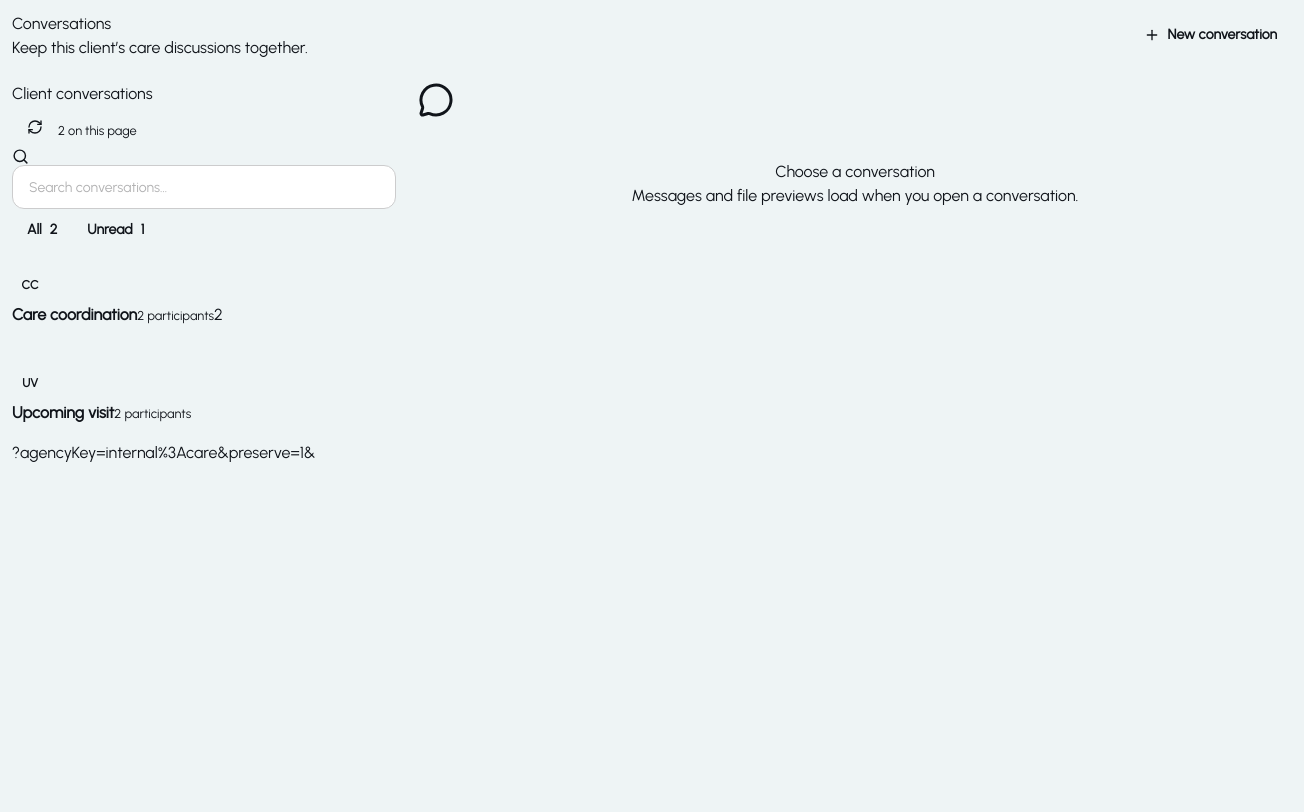
filters the loaded conversation page and preserves organization context when opening a thread
Expected: the button "CC Care coordination2 participants2" is shown, [12, 267, 223, 327]
Click the button "Unread 1" at (116, 230), box [72, 209, 159, 251]
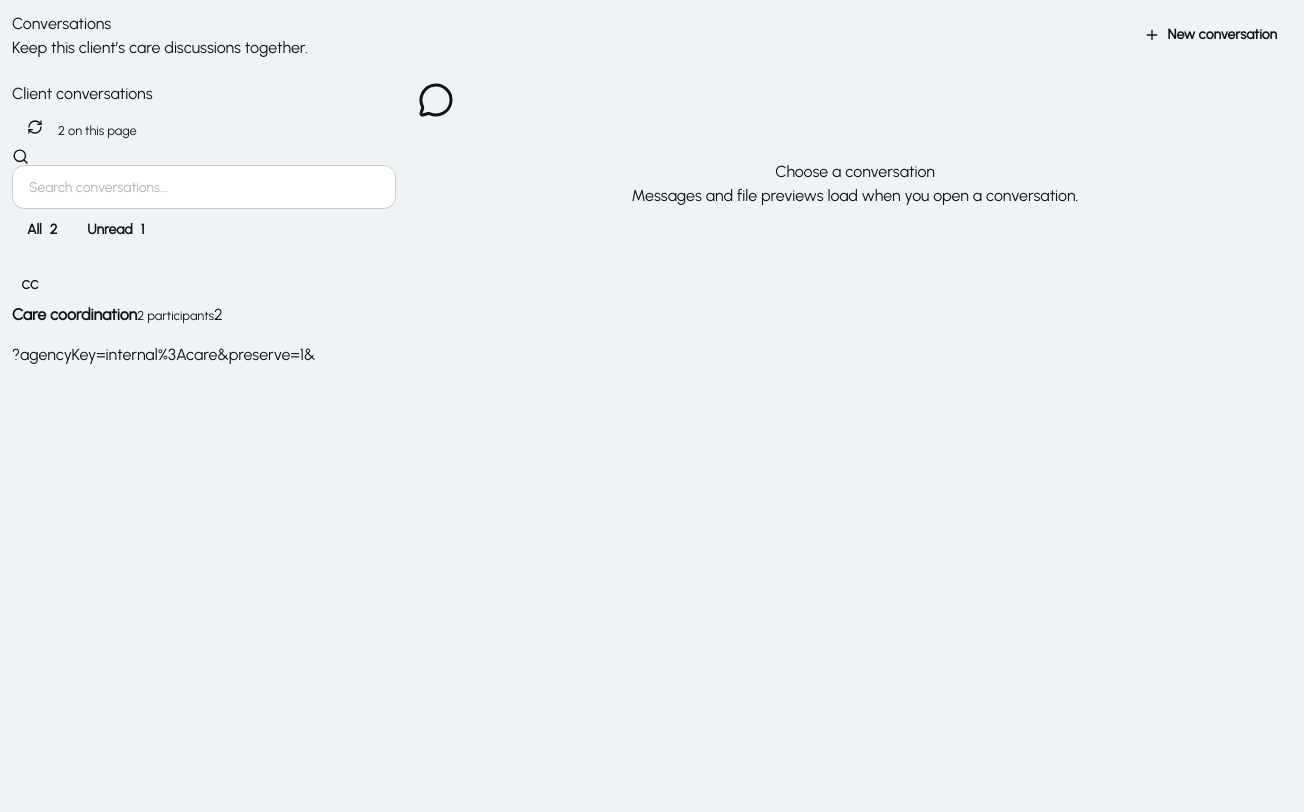
Expected: the button "Upcoming visit" is gone
Type "missing" into the field named "Search conversations on this page" at (204, 187), box [12, 165, 396, 209]
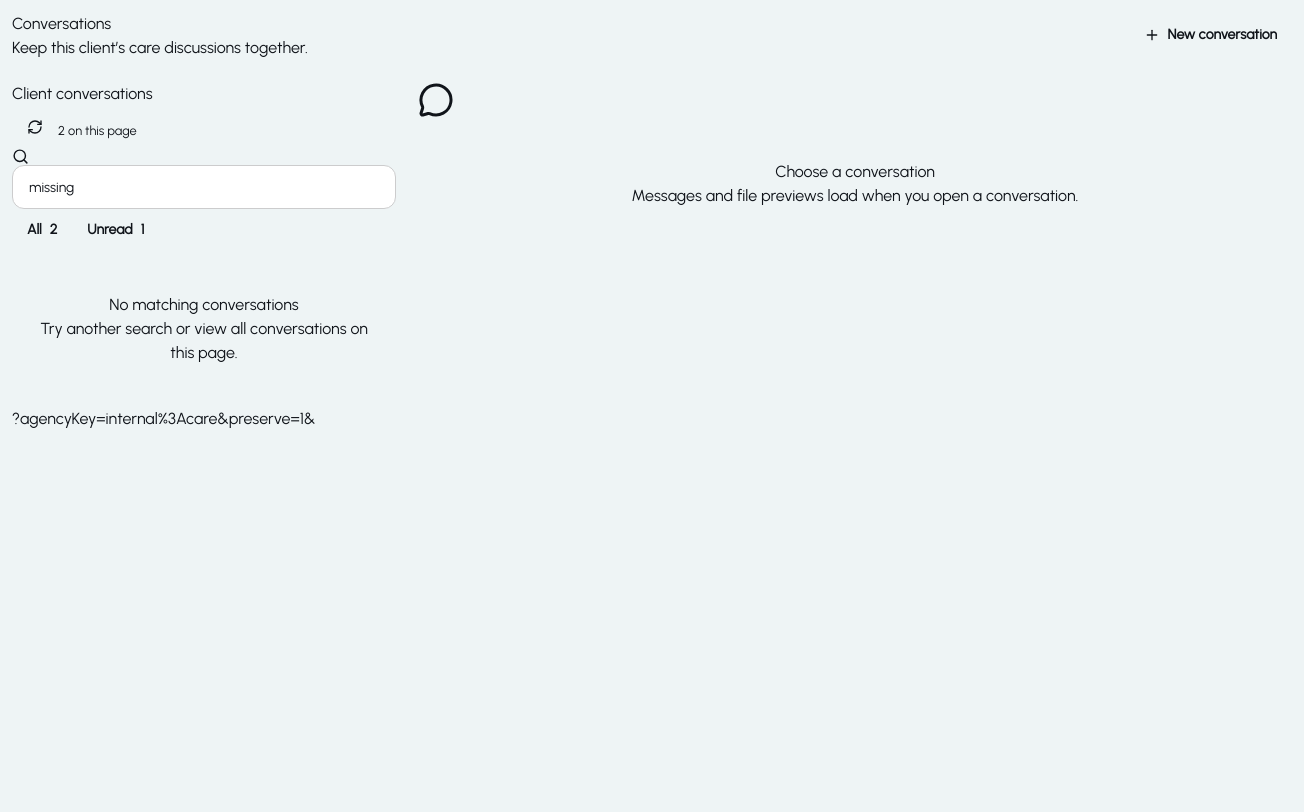
Expected: the heading "No matching conversations" is shown, [109, 295, 299, 314]
Replace the text in the field named "Search conversations on this page" with "care" at (204, 187), box [12, 165, 396, 209]
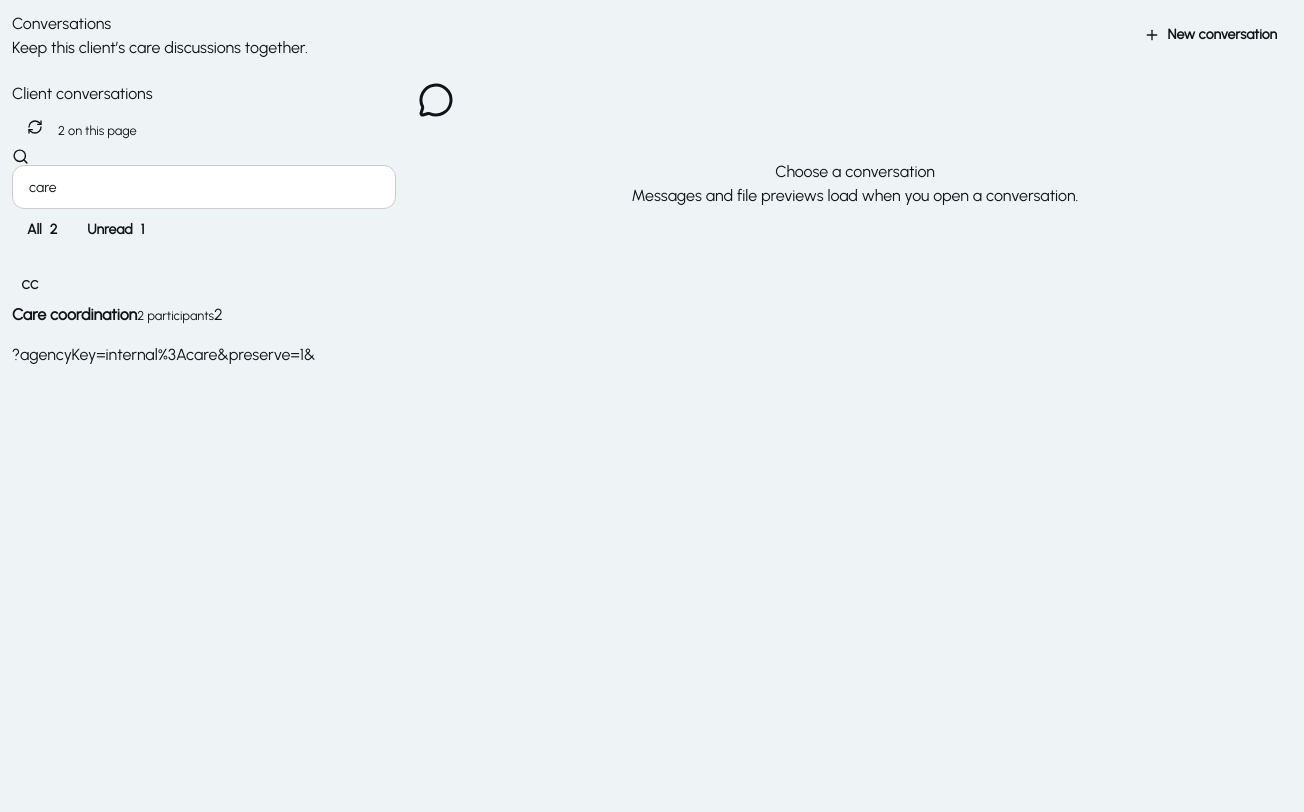
Click the button "CC Care coordination2 participants2" at (117, 297), box [12, 267, 223, 327]
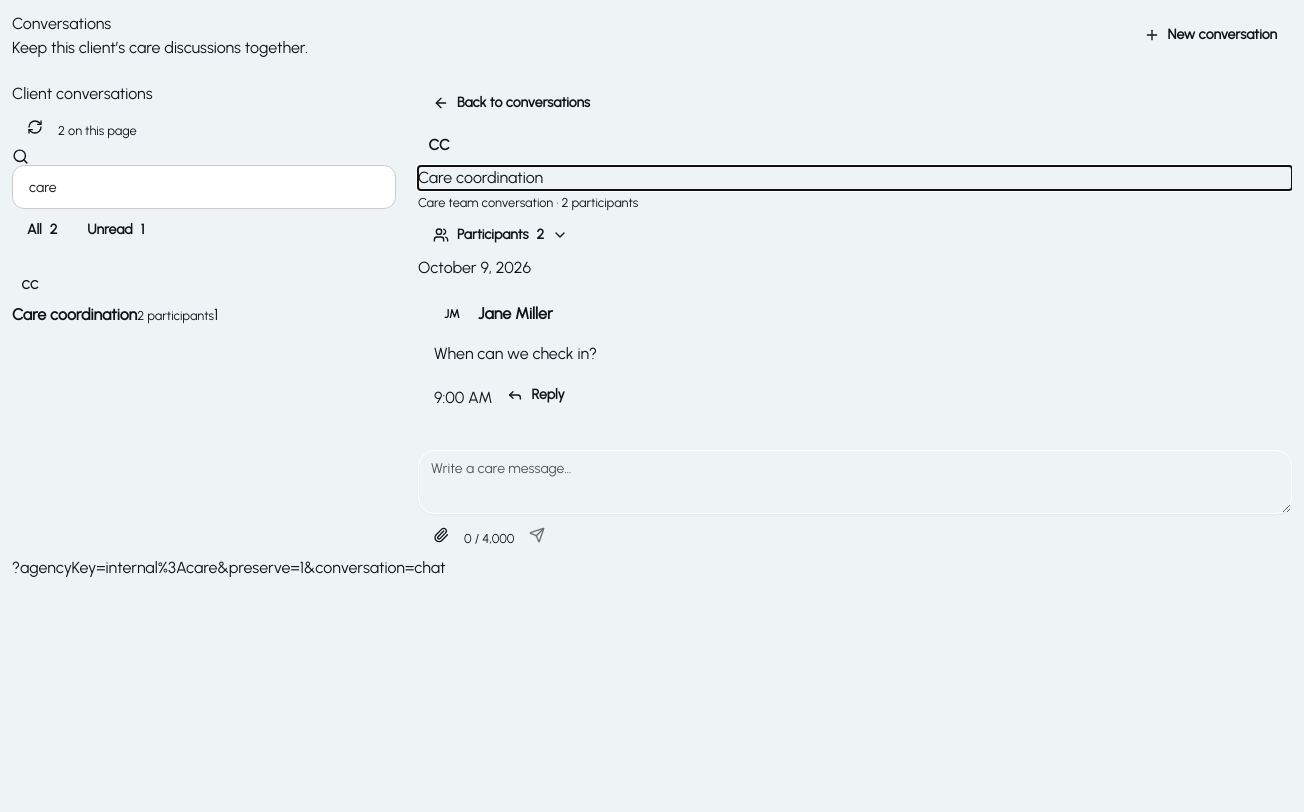
Expected: the text "When can we check in?" is shown, [434, 344, 597, 363]
